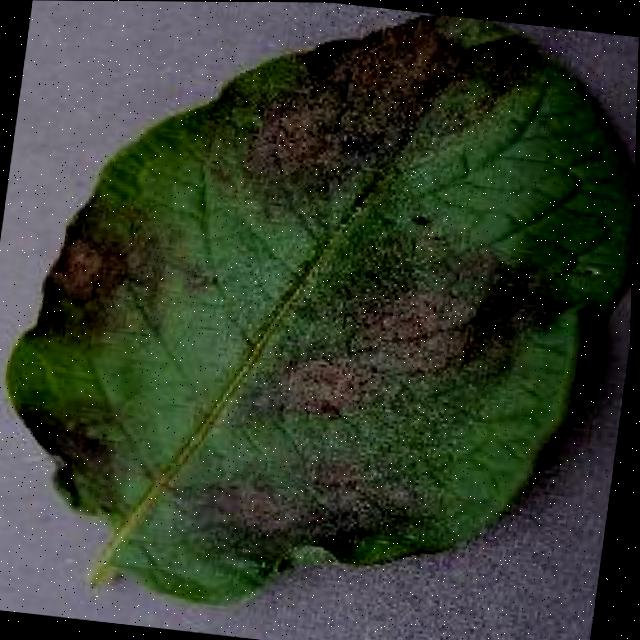Late_blight: (224, 202, 580, 457), (195, 1, 544, 230), (162, 422, 487, 588), (4, 209, 173, 374), (8, 397, 165, 515)
